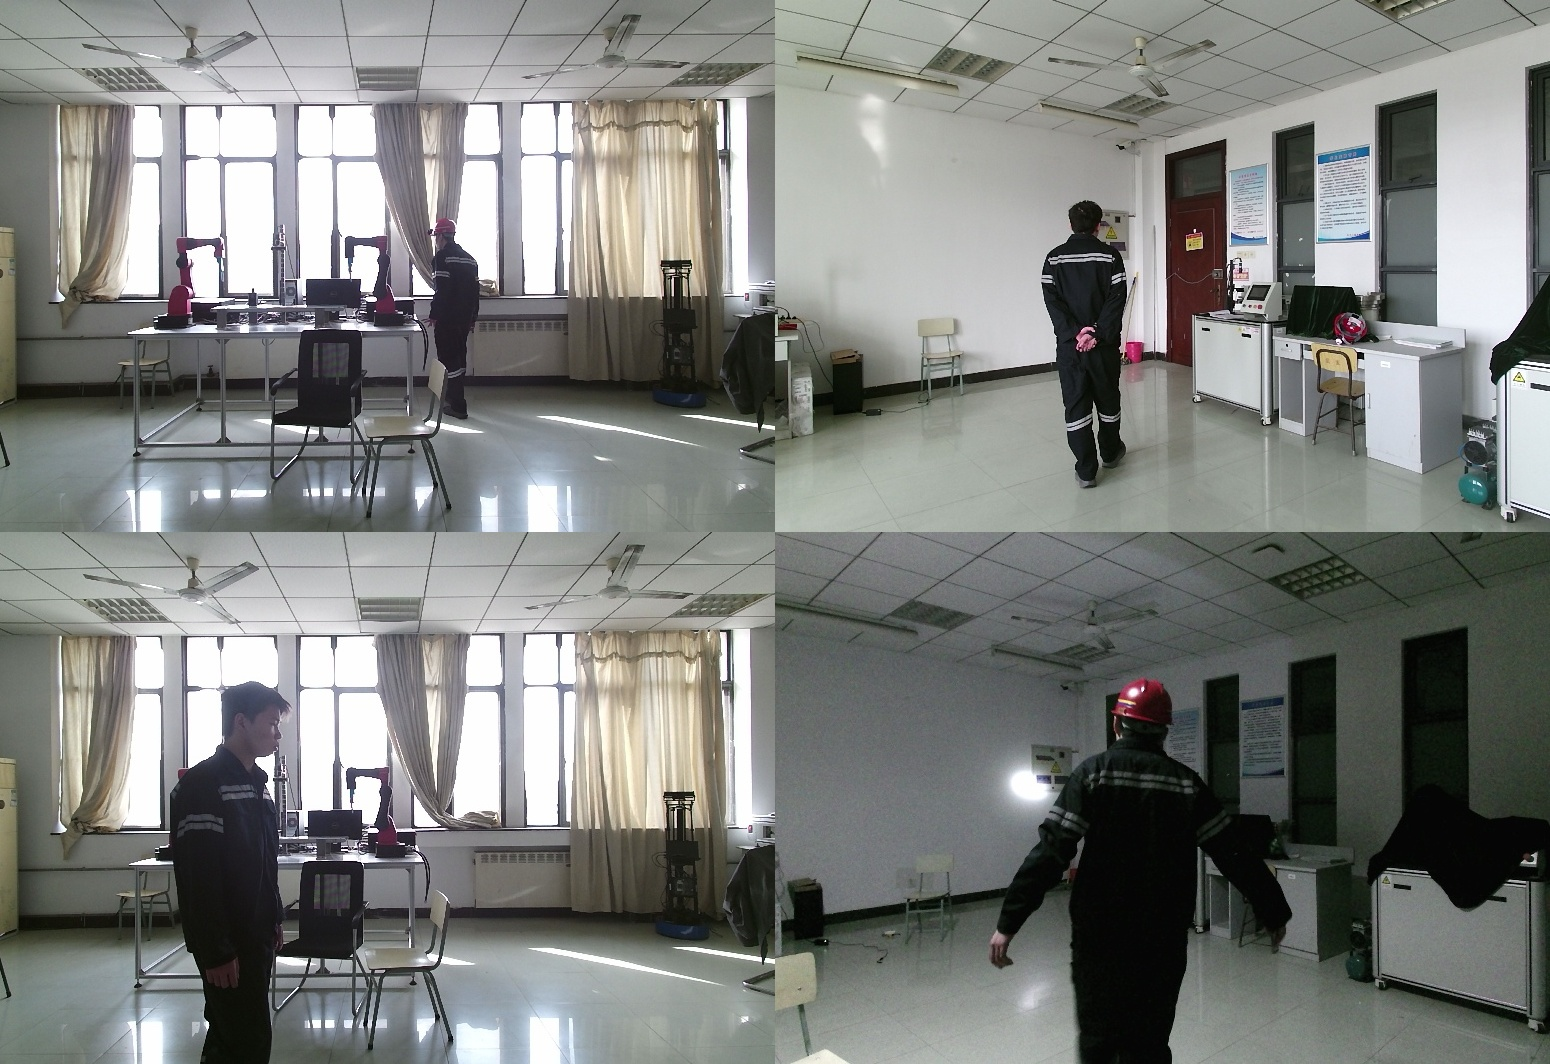person: (997, 676, 1305, 1064), (170, 683, 290, 1064), (1034, 202, 1145, 489), (422, 220, 483, 424)
